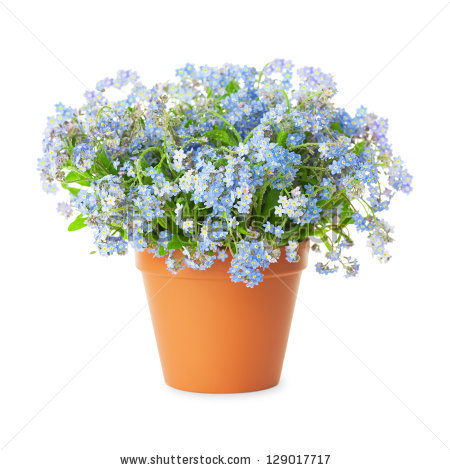flowerpot: (134, 228, 312, 396)
